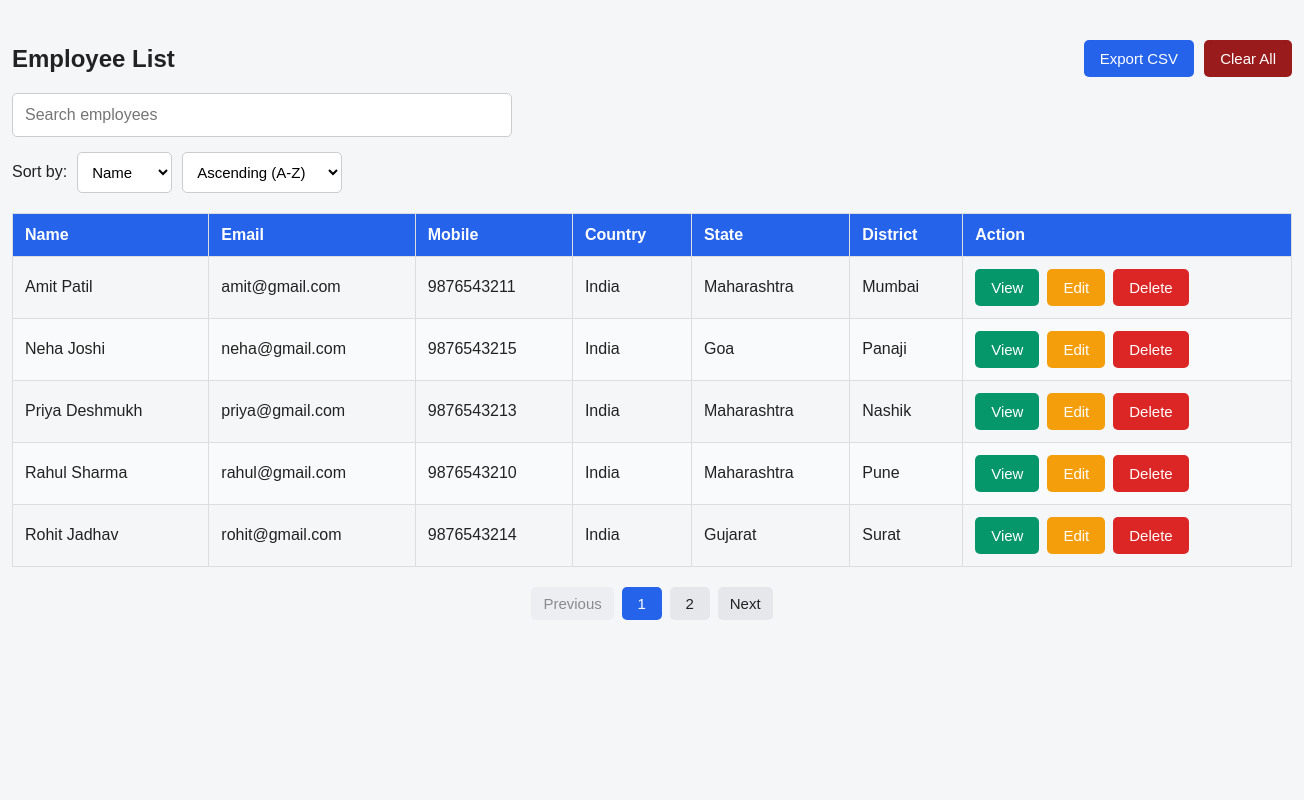
Test: EmployeeList › moves to the next page
What coordinates should you click on to do the following:
click the button "Next"
I would click on:
 (745, 603)
Its box is [718,587,773,620].
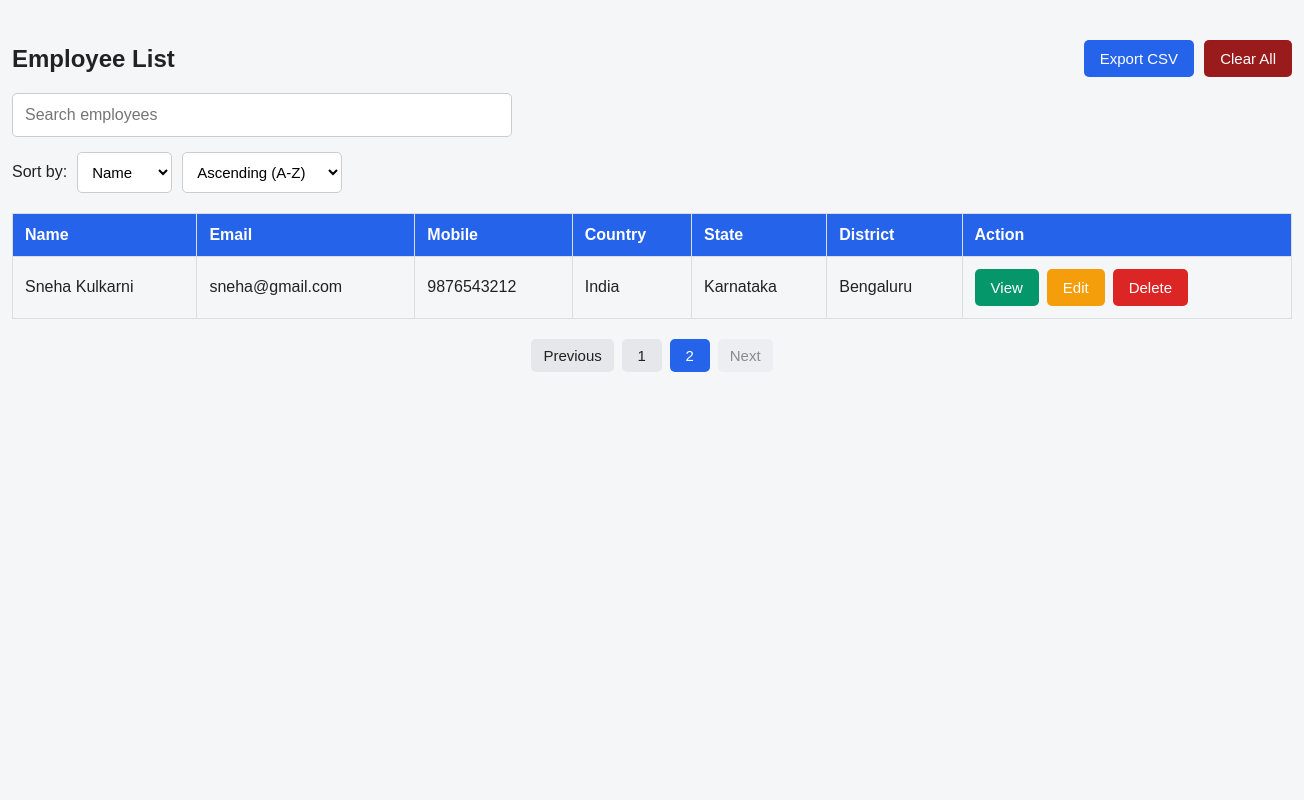
Expected: the text "Sneha Kulkarni" is shown, [12,256,197,318]
